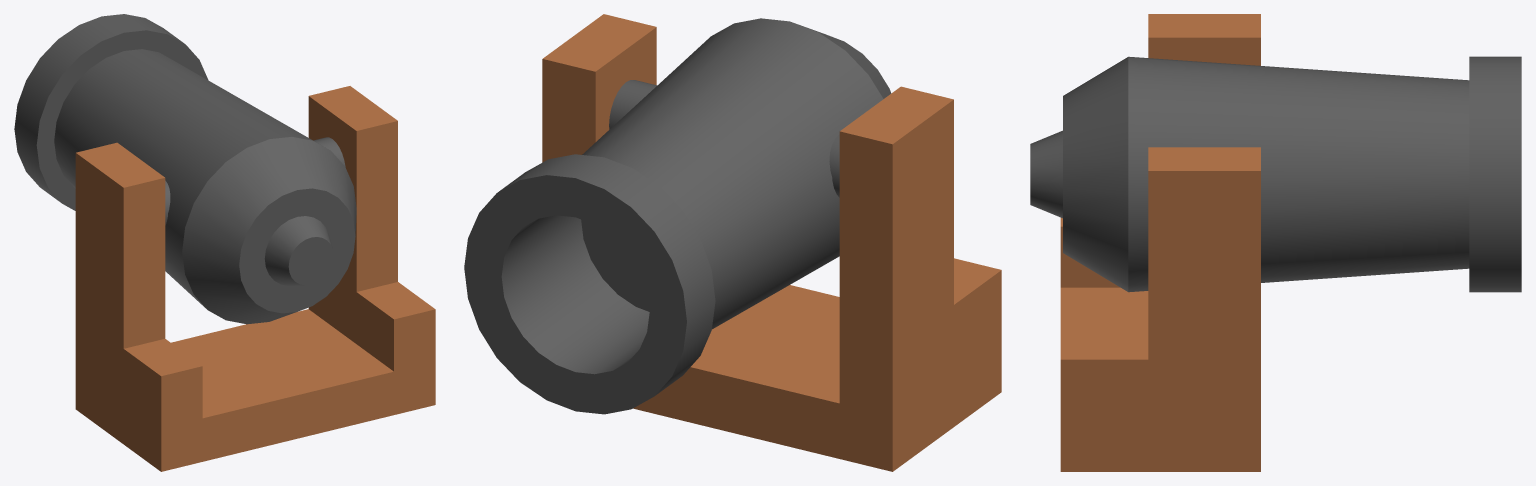
The picture shows the model from 3 angles, left to right: view 1: azimuth 30°, elevation 25°; view 2: azimuth 150°, elevation 25°; view 3: azimuth 270°, elevation 25°; orthographic projection. The views are drawn at different scales.
Parts seen in each view (by area): view 1: cannon, barrel; view 2: barrel, cannon; view 3: barrel, cannon.
Boxes of the visible parts, x1,y1,x2,y2 form: cannon: [75, 86, 435, 471]; barrel: [14, 14, 356, 324]; barrel: [464, 18, 891, 414]; cannon: [542, 14, 1001, 471]; barrel: [1030, 56, 1521, 292]; cannon: [1060, 14, 1260, 471].
Bounding box in the file's own units: 0.4345 × 0.4208 × 0.5748.
